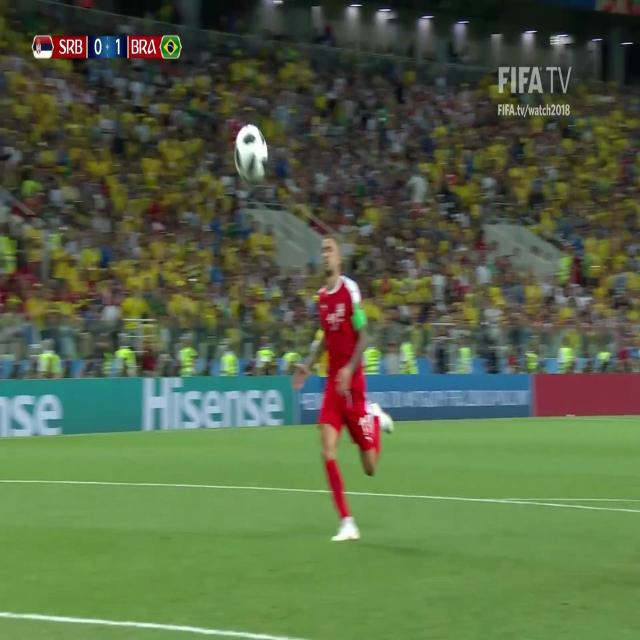ball: (228, 125, 269, 189)
player: (289, 234, 398, 552)
